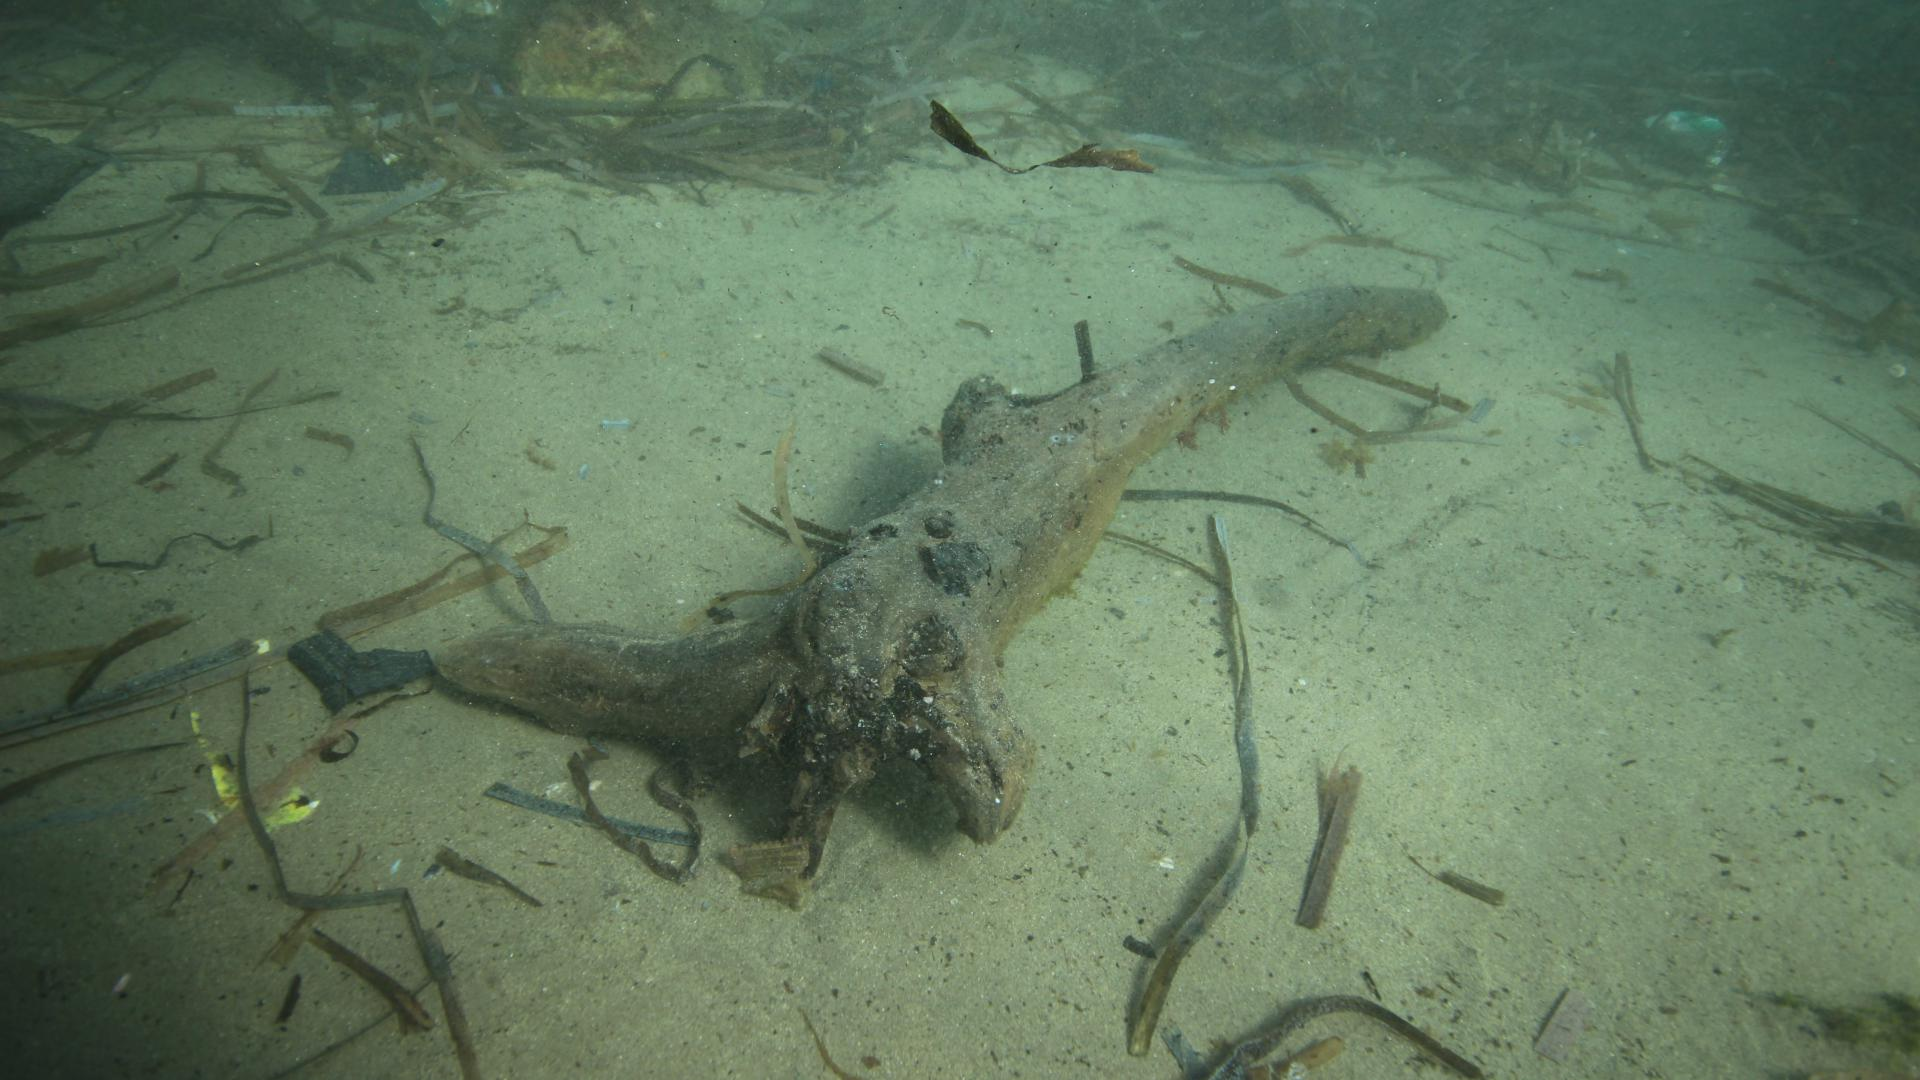wood: (434, 285, 1444, 880)
